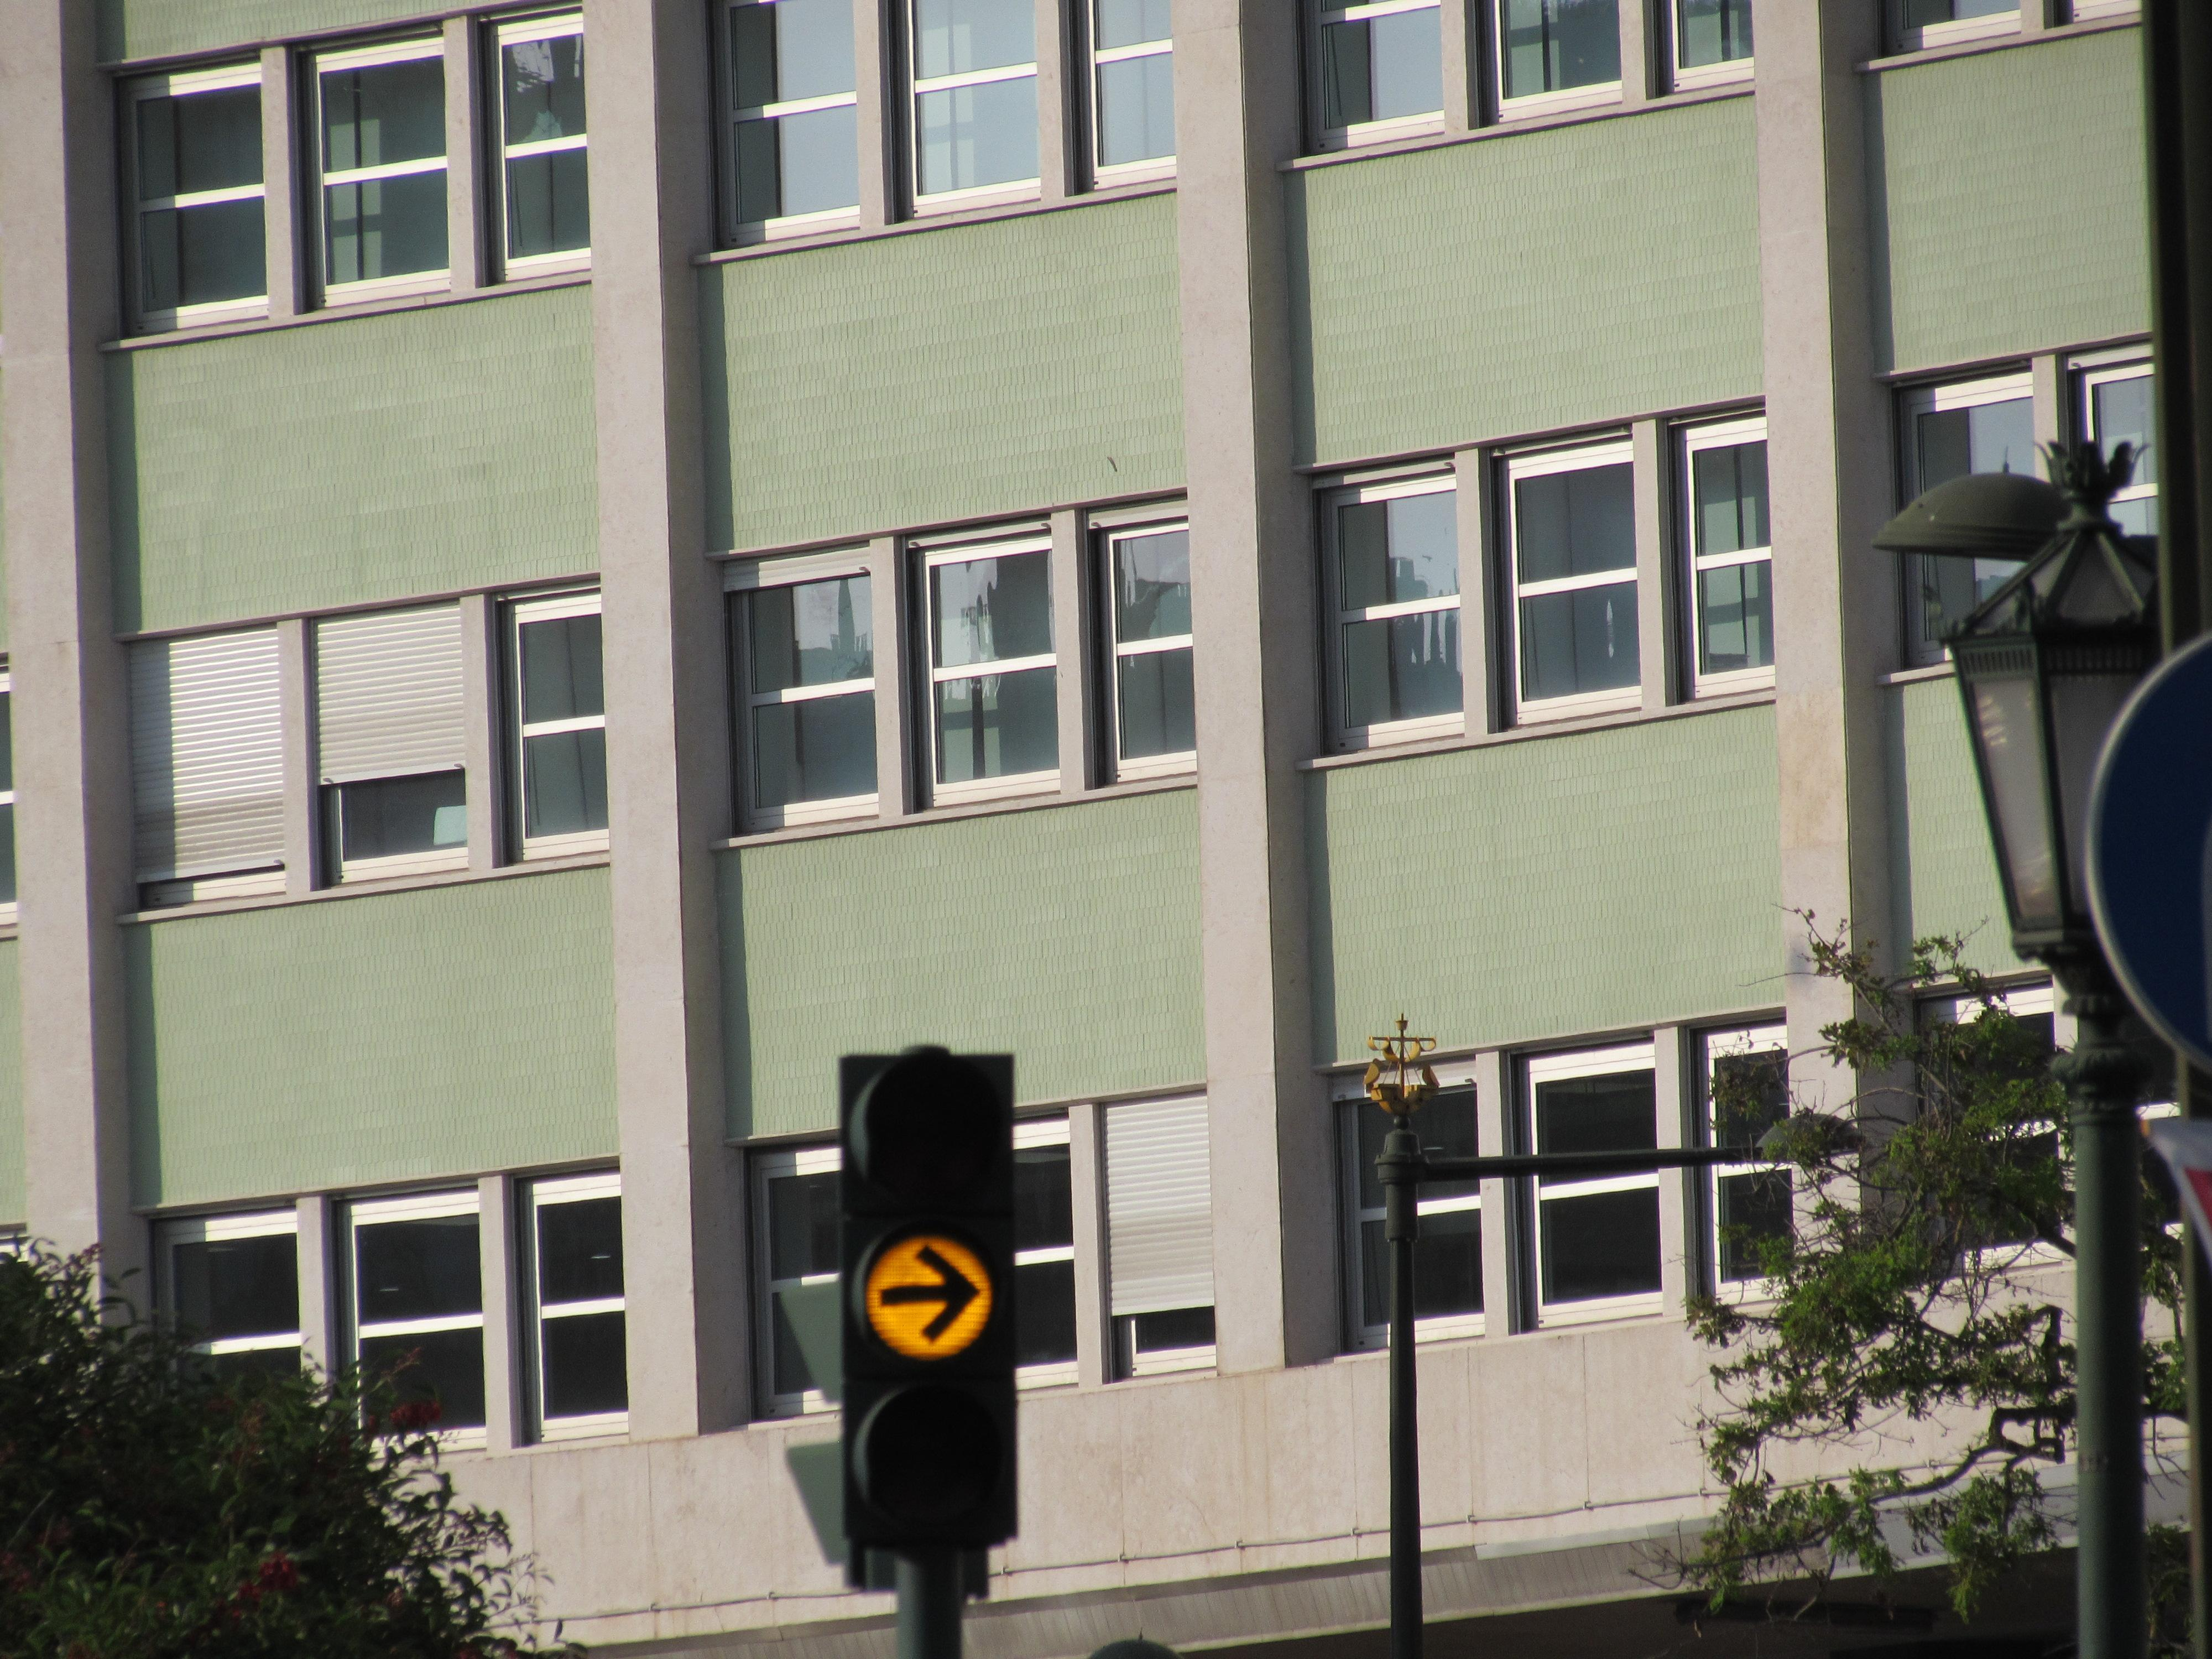yellow_light: (838, 1053, 1019, 1549)
